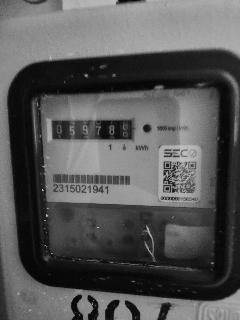1: (57, 125, 62, 134)
6: (70, 127, 75, 136)
8: (96, 127, 101, 136)
9: (110, 125, 115, 135), (123, 122, 128, 131)
:: (83, 126, 88, 135)
